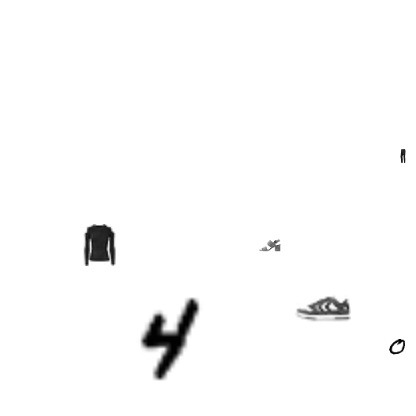0: (386, 335, 408, 357)
4: (110, 279, 222, 391)
Pullover: (78, 224, 120, 266)
Sandal: (259, 234, 281, 256)
Sneaker: (295, 279, 351, 335)
Trouser: (396, 149, 410, 163)
